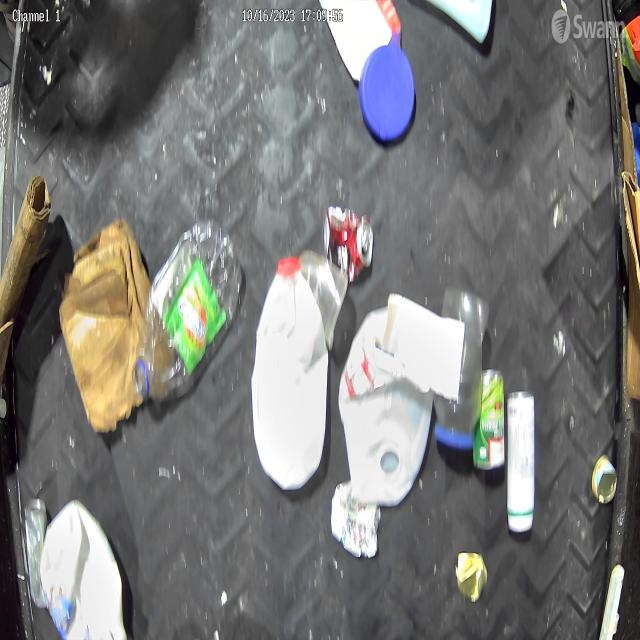can: (472, 365, 507, 472), (325, 206, 374, 278), (591, 454, 619, 505)
milk_jug: (343, 306, 428, 500), (256, 261, 325, 492)
plastic_bottle: (132, 223, 238, 389)
